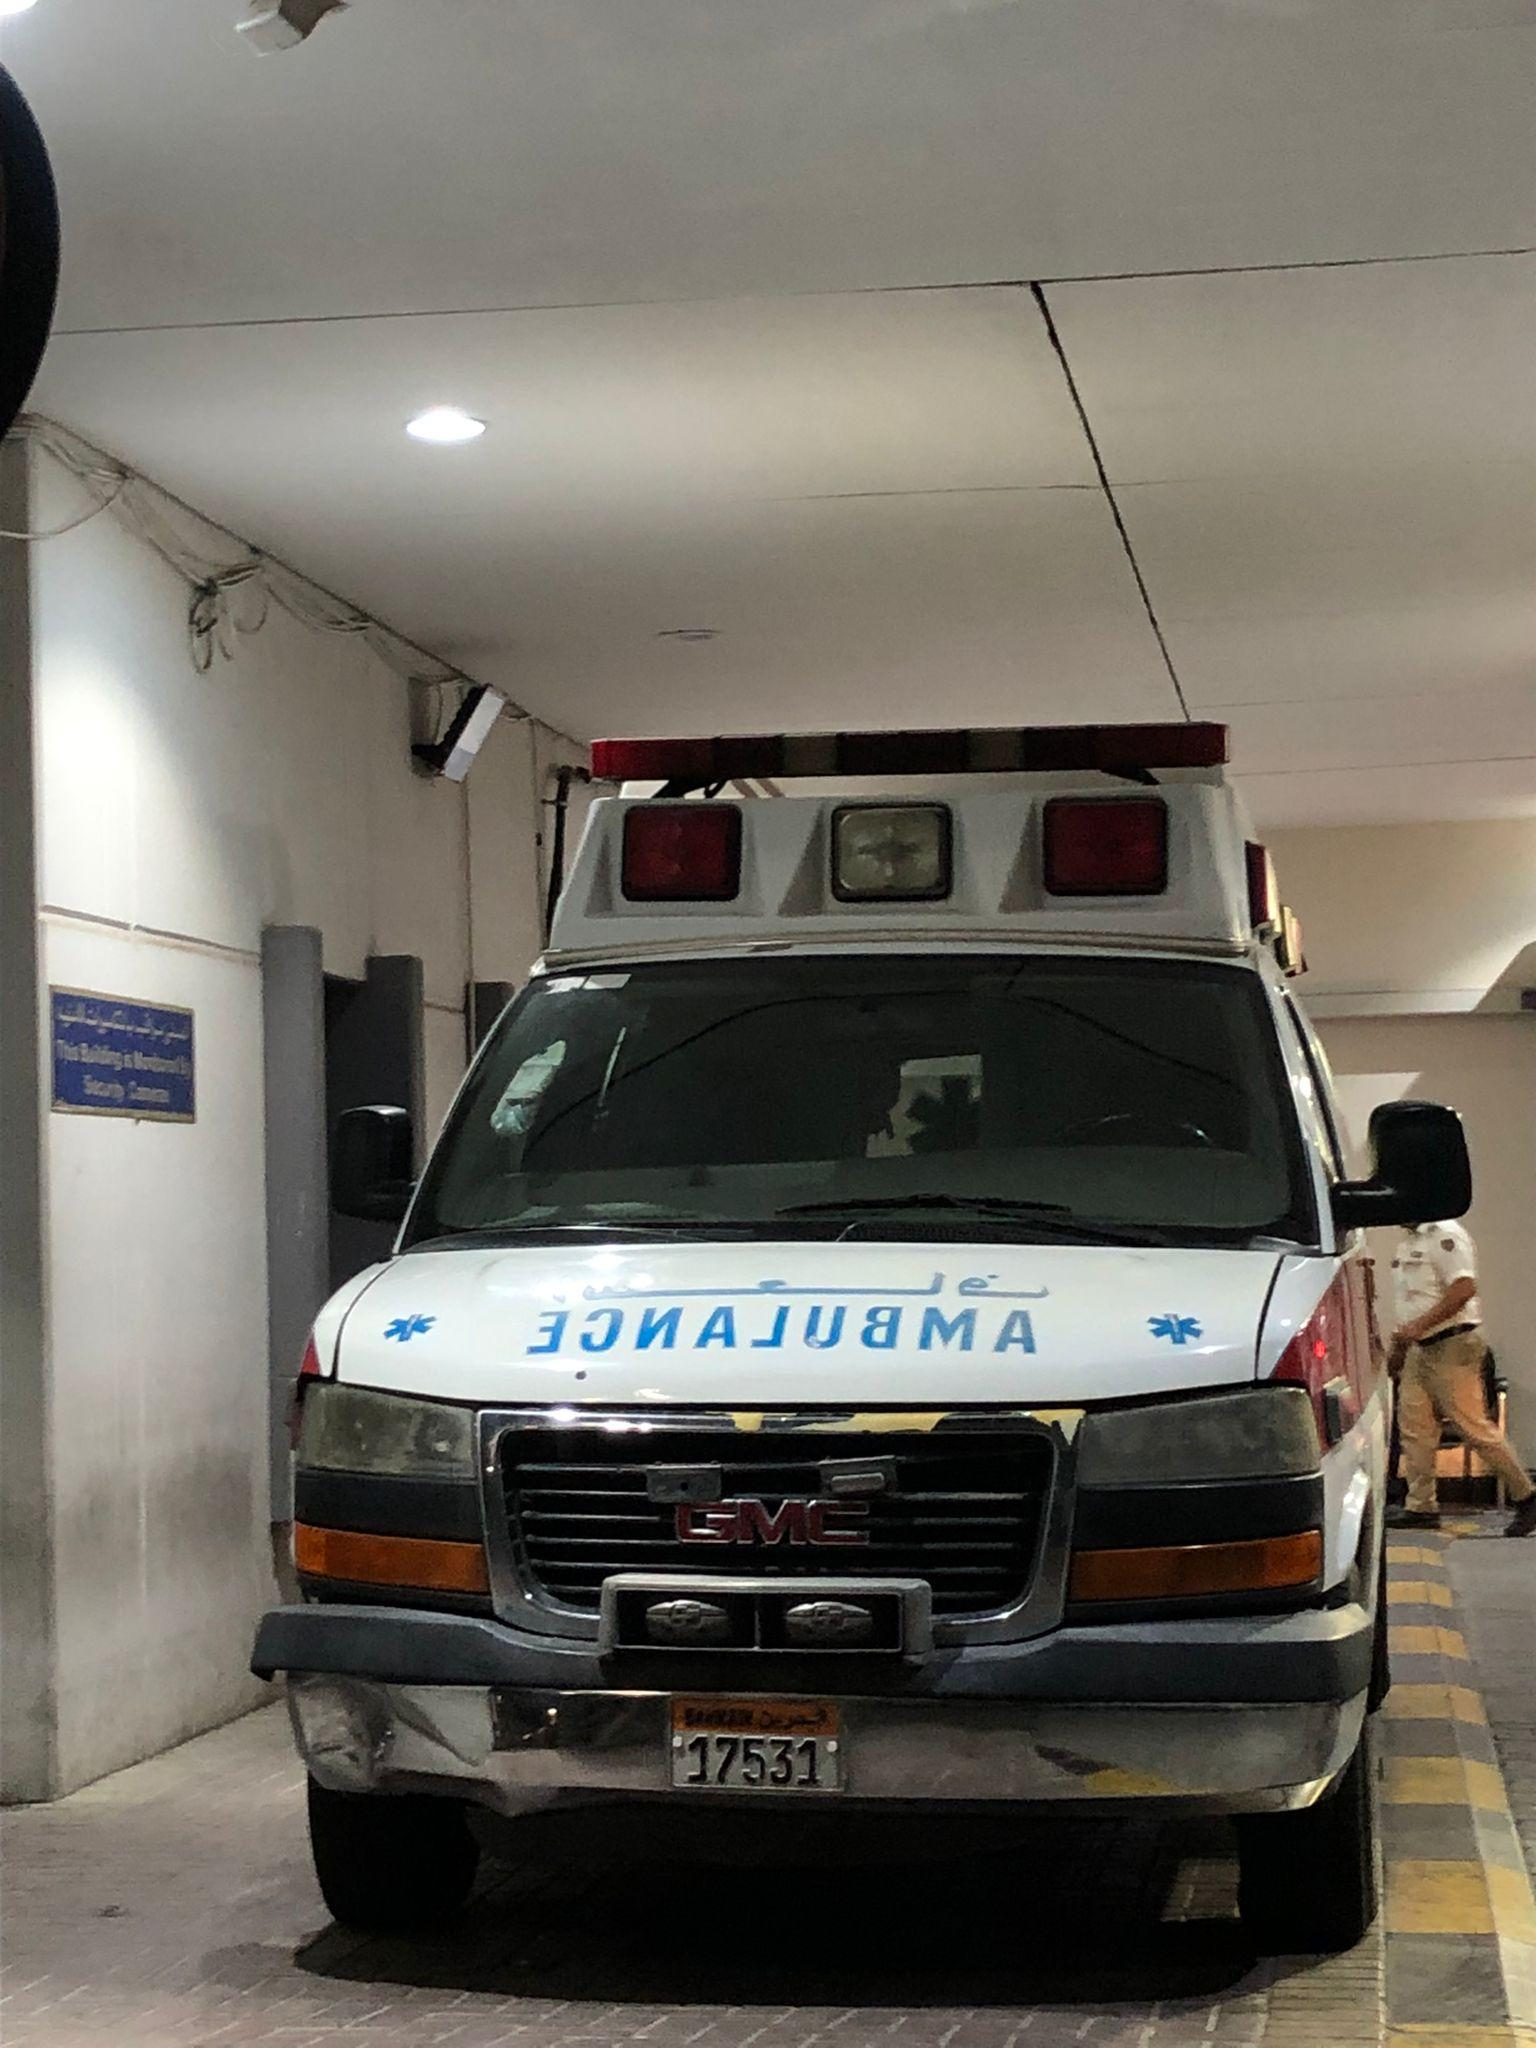ambulance_off: (255, 716, 1470, 1946)
